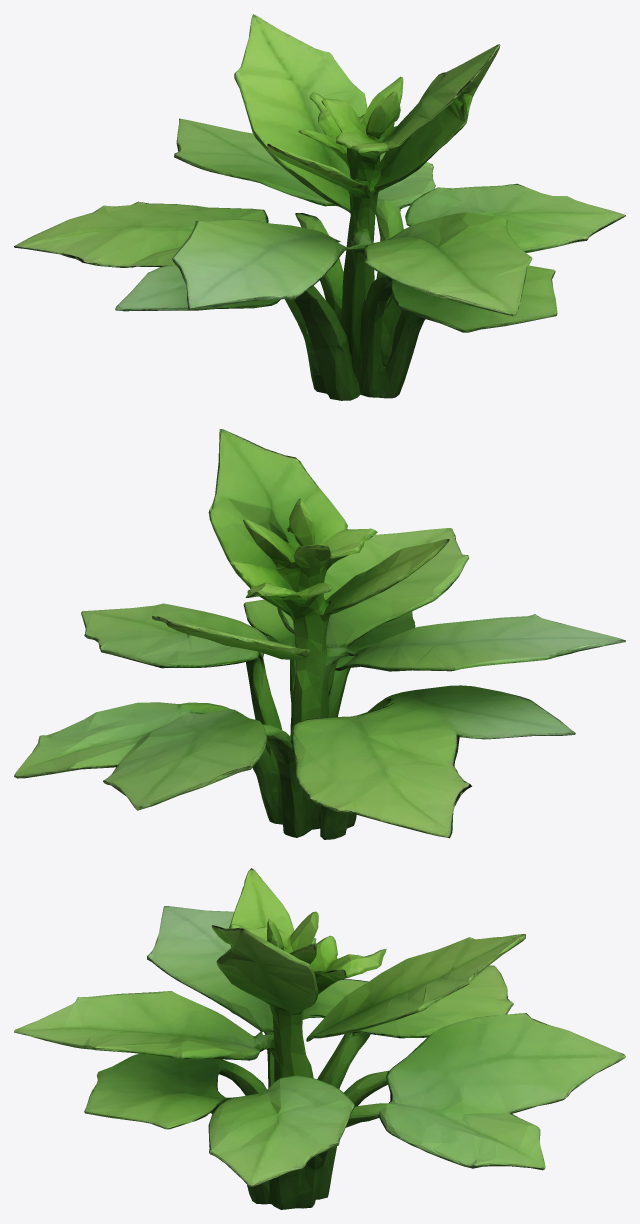
File: wild_mint.glb
The picture shows the model from 3 angles, top to bottom: view 1: azimuth 30°, elevation 25°; view 2: azimuth 150°, elevation 25°; view 3: azimuth 270°, elevation 25°; orthographic projection. The views are drawn at different scales.
Visible parts, largest first — view 1: world; view 2: world; view 3: world.
Boxes of the visible parts, x1,y1,x2,y2 form: world: [14, 14, 625, 400]; world: [14, 429, 625, 839]; world: [14, 868, 625, 1209].
Bounding box in the file's own units: 0.8936 × 0.5764 × 0.9995.
1 material, 1 textured.
